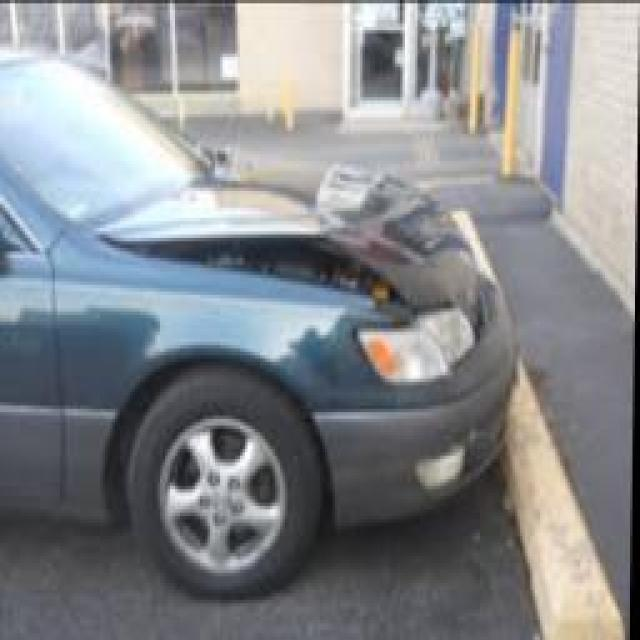Bonnet: (90, 168, 481, 324)
Light: (352, 304, 488, 388)
